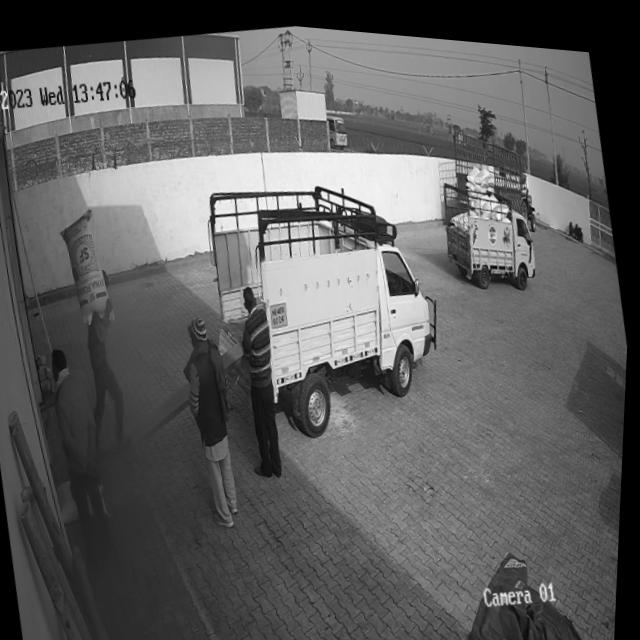sack: (55, 204, 117, 325)
